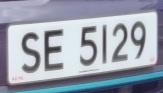1: (99, 20, 113, 70)
2: (110, 18, 131, 68)
5: (77, 22, 102, 72)
9: (128, 15, 149, 66)
E: (41, 25, 68, 75)
S: (17, 25, 44, 80)
